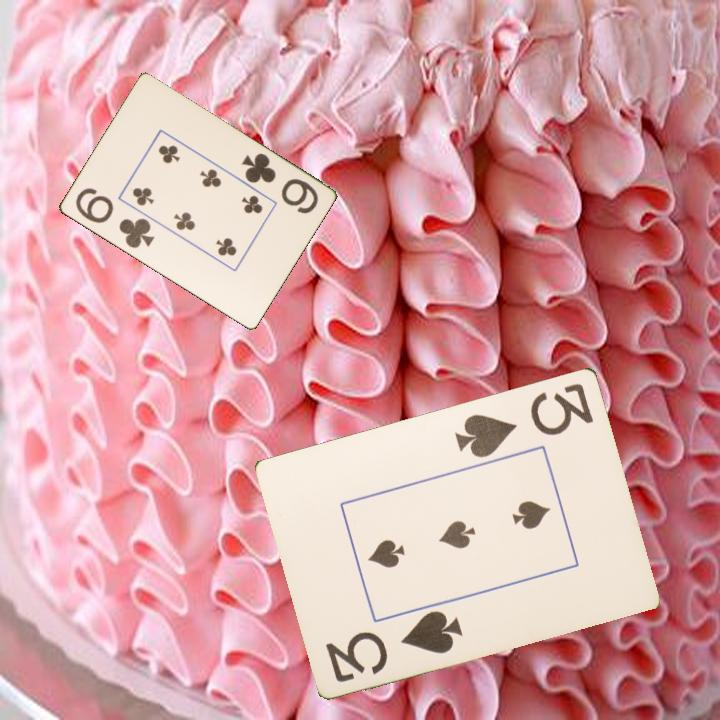3s: (452, 379, 597, 461), (322, 606, 466, 685)
6c: (71, 184, 157, 251), (238, 149, 321, 217)
